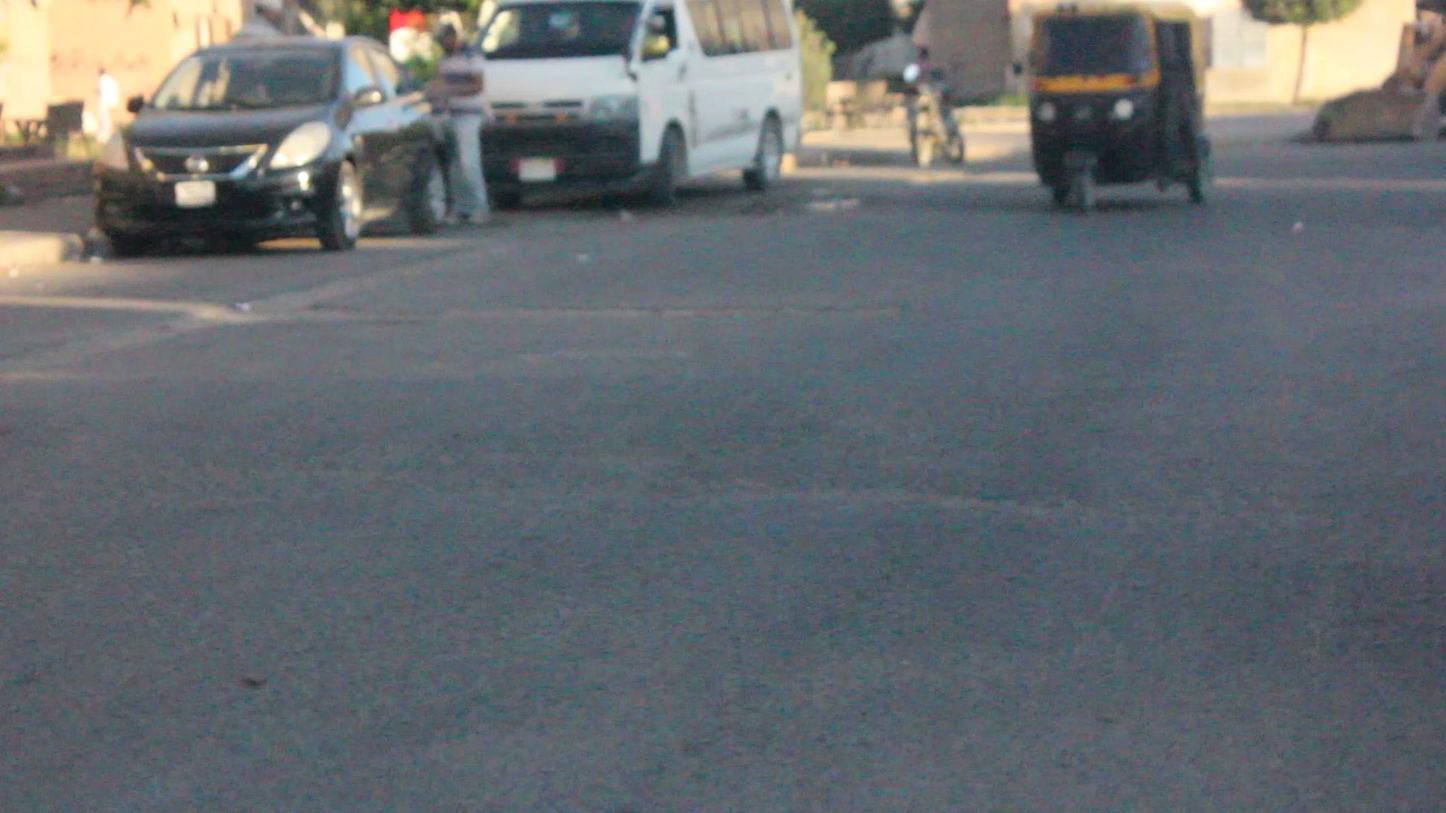Bump: (205, 314, 1433, 502)
